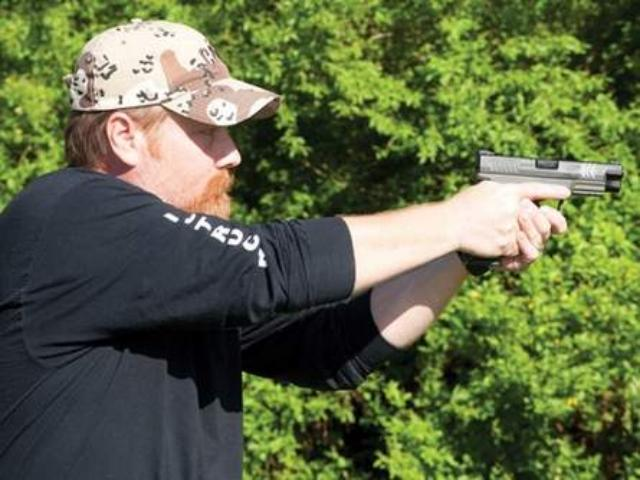handgun: (453, 146, 627, 280)
